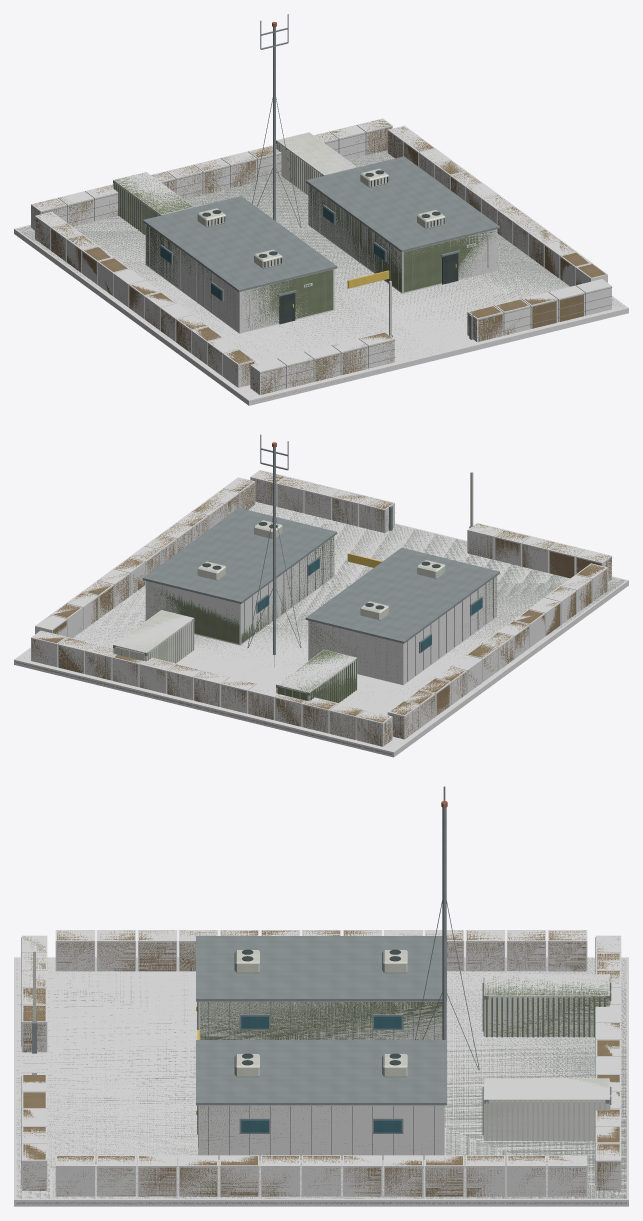
Rendered from FOB.fbx.
3 views of the same model, one above another, from view 1: azimuth 30°, elevation 25°; view 2: azimuth 150°, elevation 25°; view 3: azimuth 270°, elevation 25° (orthographic). The views are drawn at different scales.
Visible parts, largest first — view 1: COL_Static, LOD0; view 2: COL_Static, LOD0; view 3: COL_Static, LOD0.
Boxes of the visible parts, bbox=[...] form: COL_Static: bbox=[14, 118, 628, 405]; LOD0: bbox=[17, 14, 623, 401]; COL_Static: bbox=[14, 470, 628, 757]; LOD0: bbox=[15, 434, 625, 755]; COL_Static: bbox=[14, 930, 628, 1206]; LOD0: bbox=[16, 786, 626, 1204].
Size of what is drawn, in the model's own units: 2800 by 1560 by 3000.
